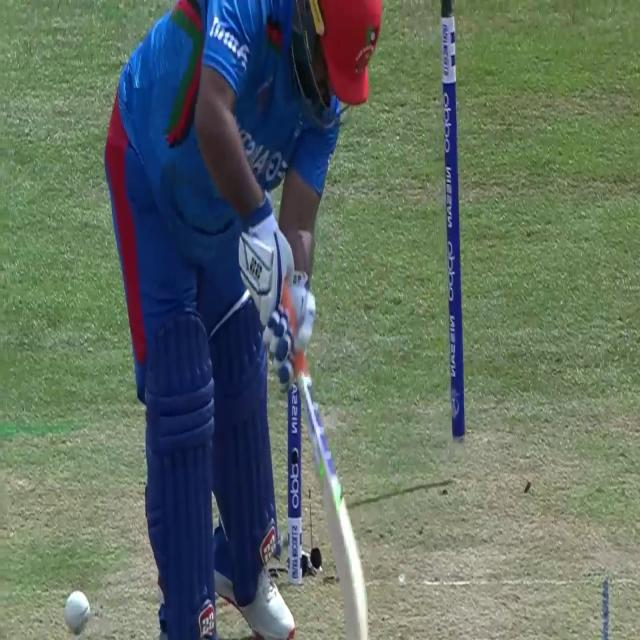ball: (64, 589, 92, 633)
